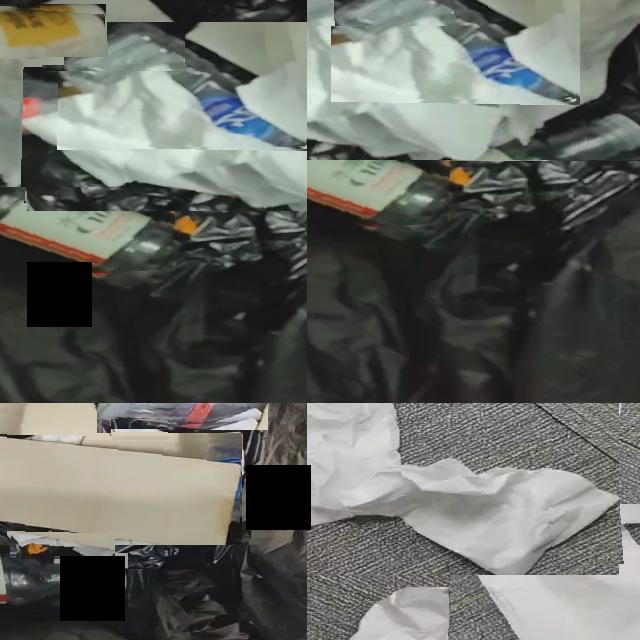bottle: (61, 23, 307, 147), (331, 0, 577, 99), (0, 179, 175, 275), (307, 136, 450, 229), (0, 555, 128, 604), (568, 29, 640, 93), (103, 403, 268, 426)
carton: (0, 437, 241, 545), (0, 403, 115, 454)
dixie_cup: (0, 10, 105, 47)
paper: (307, 403, 619, 575), (307, 0, 640, 160), (27, 68, 307, 211), (451, 504, 640, 640), (0, 49, 128, 187), (40, 0, 185, 71), (11, 531, 115, 556), (112, 419, 168, 440)
